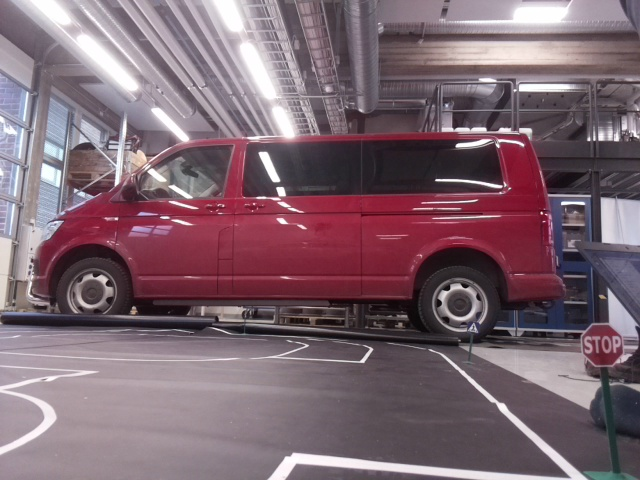Crosswalk: (468, 322, 478, 335)
Stop: (580, 318, 625, 365)
